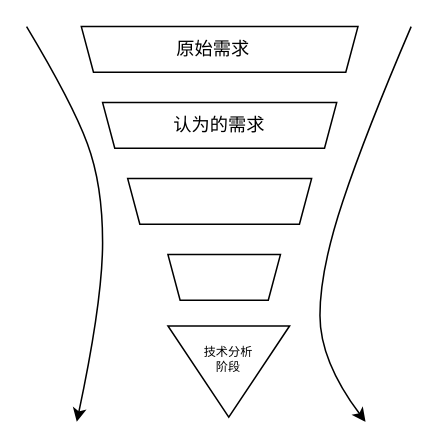
This 438x448 diagram has some shape labels left out. Here are the shapes that lost their labels. From the top down, the box of each, then its label:
(126, 177, 312, 224): 表述的需求
(166, 253, 280, 300): 决策后的需求
